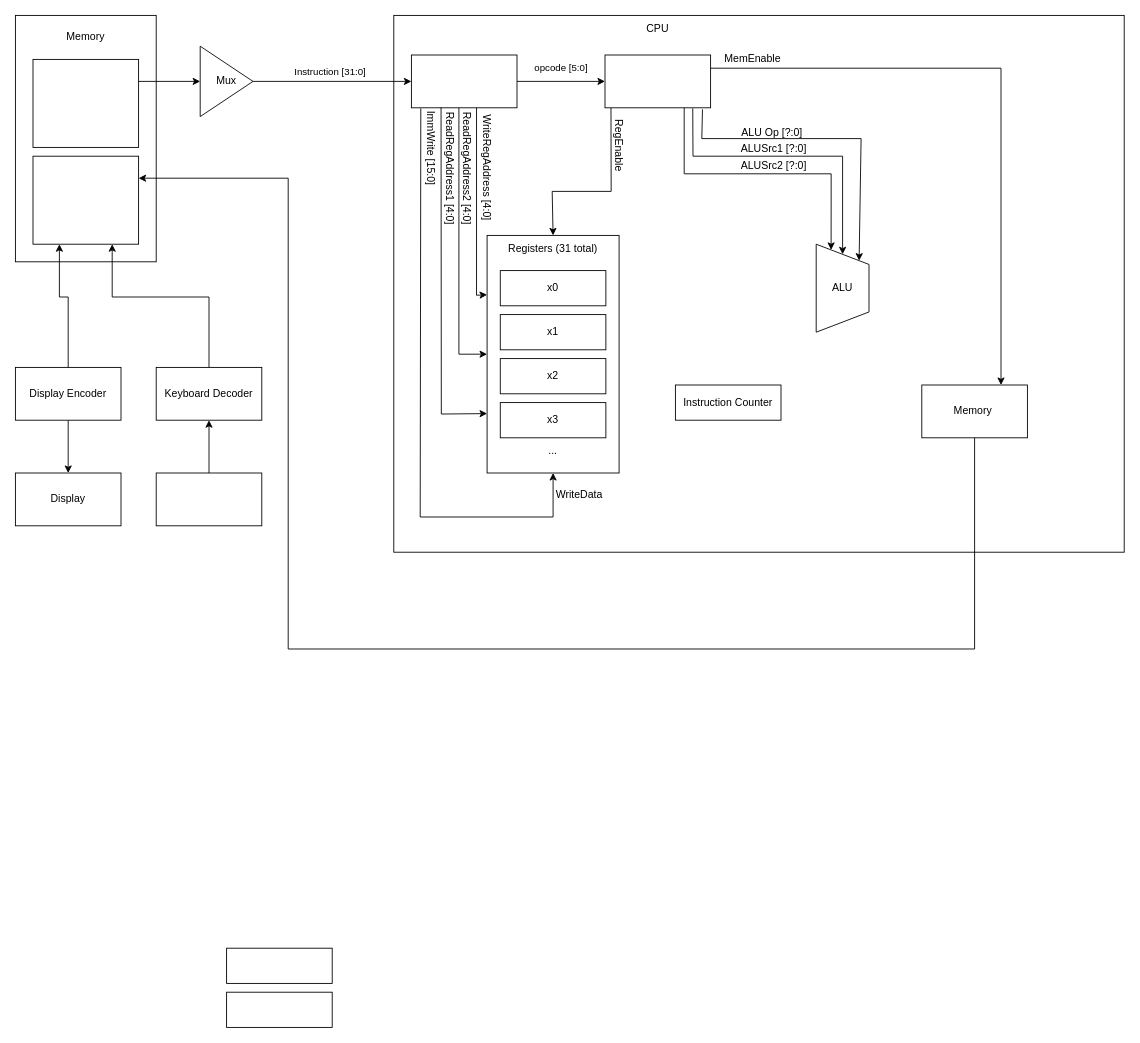
This 1140x1043 diagram has some shape labels left out. Here are the shapes that lost their labels. From the top down, the centre of each, then its label:
point 464,81: Instruction Decoder
point 657,81: Control Unit
point 85,103: Program
point 85,199: Data
point 208,499: Keyboard
